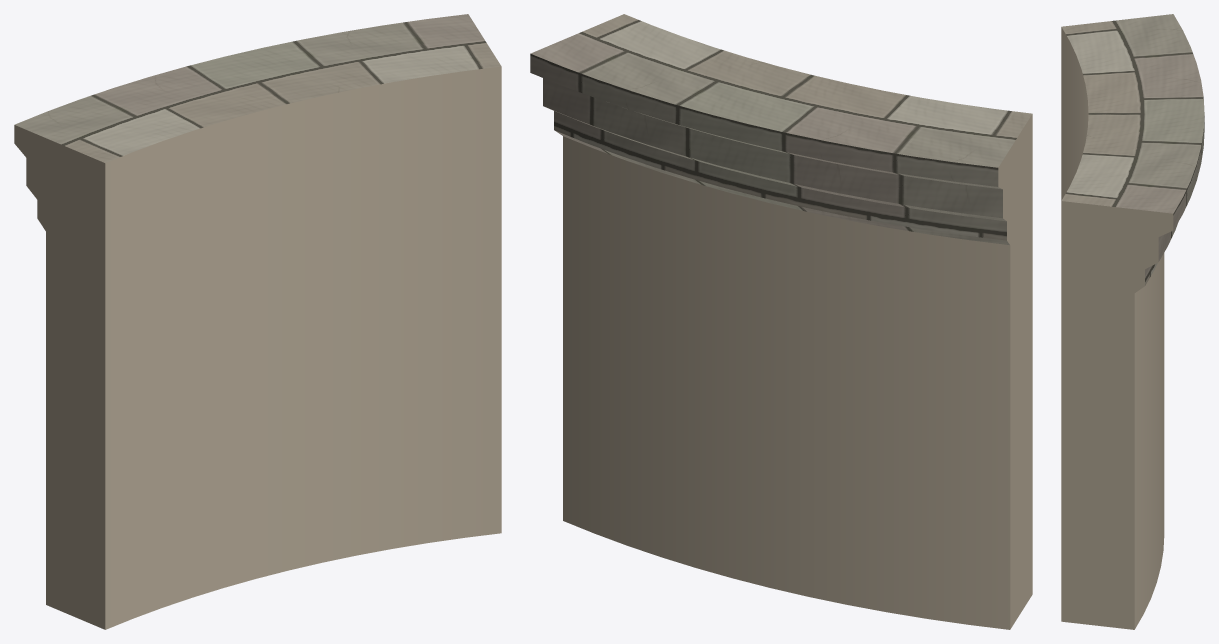
File: Furn_Tower3_R50_Top.fbx
The picture shows the model from 3 angles, left to right: view 1: azimuth 30°, elevation 25°; view 2: azimuth 150°, elevation 25°; view 3: azimuth 270°, elevation 25°; orthographic projection. The views are drawn at different scales.
Parts seen in each view (by area): view 1: Furn_Tower3_R50_Top; view 2: Furn_Tower3_R50_Top; view 3: Furn_Tower3_R50_Top.
Boxes of the visible parts, x1,y1,x2,y2 form: Furn_Tower3_R50_Top: [14, 14, 501, 629]; Furn_Tower3_R50_Top: [530, 14, 1032, 629]; Furn_Tower3_R50_Top: [1061, 14, 1204, 629].
Bounding box in the file's own units: 3.05 × 3 × 0.9255.
